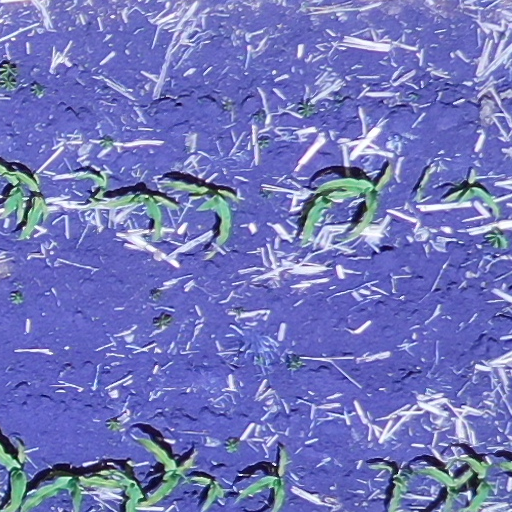planta: (314, 165, 392, 239), (166, 179, 240, 242), (135, 438, 194, 508), (299, 188, 361, 244), (102, 193, 177, 238), (1, 170, 50, 238), (445, 187, 500, 213), (77, 170, 108, 208), (190, 476, 227, 507)
